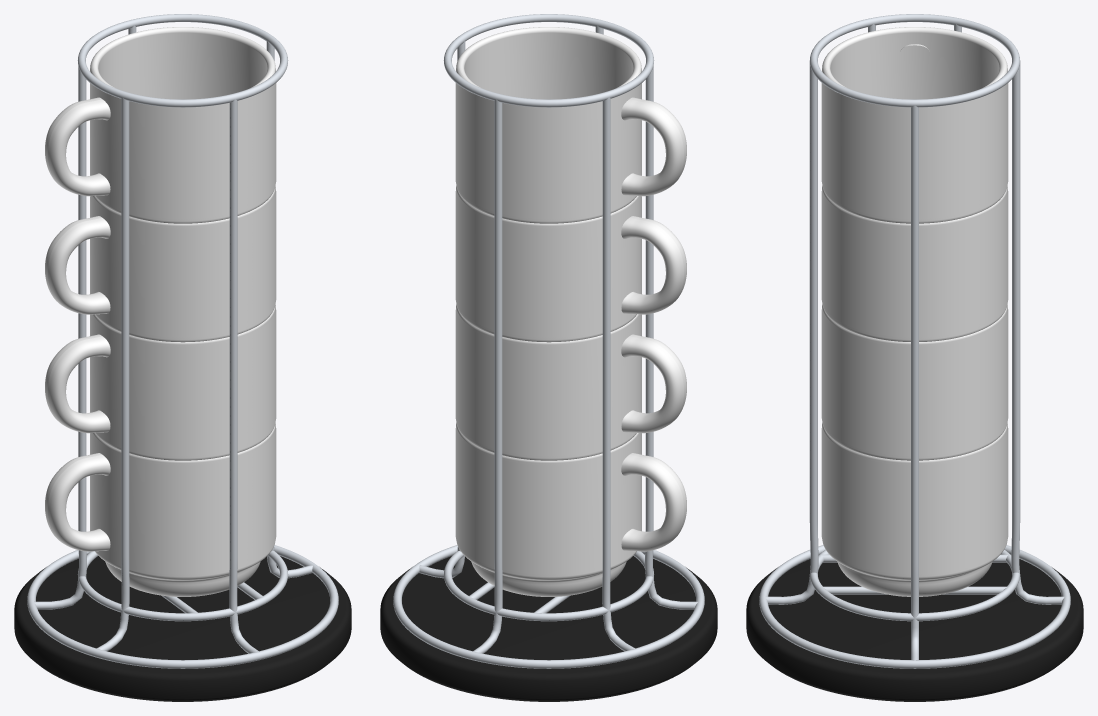
The model's file is kit_4_xicaras_180ml_com_base.glb.
The picture shows the model from 3 angles, left to right: view 1: azimuth 30°, elevation 25°; view 2: azimuth 150°, elevation 25°; view 3: azimuth 270°, elevation 25°; orthographic projection.
Visible parts, largest first — view 1: Base_Apoio, Area_Arte_3, Area_Arte_2, Area_Arte_4, Area_Arte_1, Interior_Xicara_1, Corpo_Xicara_4, Corpo_Xicara_2, Corpo_Xicara_3, Corpo_Xicara_1, Haste_Vertical_4, Haste_Vertical_1 (+8 smaller); view 2: Base_Apoio, Area_Arte_3, Area_Arte_2, Area_Arte_4, Area_Arte_1, Interior_Xicara_1, Corpo_Xicara_4, Corpo_Xicara_2, Corpo_Xicara_3, Corpo_Xicara_1, Haste_Vertical_5, Haste_Vertical_3 (+8 smaller); view 3: Base_Apoio, Area_Arte_3, Area_Arte_2, Area_Arte_4, Area_Arte_1, Interior_Xicara_1, Haste_Vertical_1, Haste_Vertical_3, Anel_Base_Externo, Haste_Vertical_2, Corpo_Xicara_4, Anel_Superior (+5 smaller).
Part boxes in pixels (left/top/right/bottom): Base_Apoio: left=14, top=556, right=351, bottom=701; Area_Arte_3: left=145, top=310, right=276, bottom=456; Area_Arte_2: left=145, top=191, right=276, bottom=337; Area_Arte_4: left=145, top=428, right=276, bottom=574; Area_Arte_1: left=145, top=83, right=276, bottom=219; Interior_Xicara_1: left=93, top=27, right=272, bottom=99; Corpo_Xicara_4: left=90, top=423, right=275, bottom=596; Corpo_Xicara_2: left=90, top=186, right=275, bottom=342; Corpo_Xicara_3: left=90, top=304, right=275, bottom=460; Corpo_Xicara_1: left=90, top=27, right=275, bottom=223; Haste_Vertical_4: left=97, top=97, right=129, bottom=651; Haste_Vertical_1: left=229, top=99, right=258, bottom=653; Base_Apoio: left=380, top=556, right=717, bottom=701; Area_Arte_3: left=455, top=310, right=586, bottom=456; Area_Arte_2: left=455, top=191, right=586, bottom=337; Area_Arte_4: left=455, top=428, right=586, bottom=574; Area_Arte_1: left=455, top=83, right=586, bottom=219; Interior_Xicara_1: left=459, top=27, right=638, bottom=99; Corpo_Xicara_4: left=456, top=423, right=641, bottom=596; Corpo_Xicara_2: left=456, top=186, right=641, bottom=342; Corpo_Xicara_3: left=456, top=304, right=641, bottom=460; Corpo_Xicara_1: left=456, top=27, right=641, bottom=223; Haste_Vertical_5: left=602, top=97, right=634, bottom=651; Haste_Vertical_3: left=473, top=99, right=502, bottom=653; Base_Apoio: left=746, top=559, right=1083, bottom=701; Area_Arte_3: left=821, top=309, right=1008, bottom=456; Area_Arte_2: left=821, top=191, right=1008, bottom=337; Area_Arte_4: left=821, top=428, right=1008, bottom=574; Area_Arte_1: left=821, top=83, right=1008, bottom=219; Interior_Xicara_1: left=825, top=27, right=1004, bottom=99; Haste_Vertical_1: left=765, top=61, right=818, bottom=604; Haste_Vertical_3: left=1011, top=61, right=1064, bottom=604; Anel_Base_Externo: left=759, top=545, right=1070, bottom=668; Haste_Vertical_2: left=911, top=105, right=918, bottom=660; Corpo_Xicara_4: left=822, top=423, right=1007, bottom=596; Anel_Superior: left=809, top=14, right=1020, bottom=107.
Bounding box in the file's own units: 0.138 × 0.2601 × 0.138.
8 materials, 4 textured.
